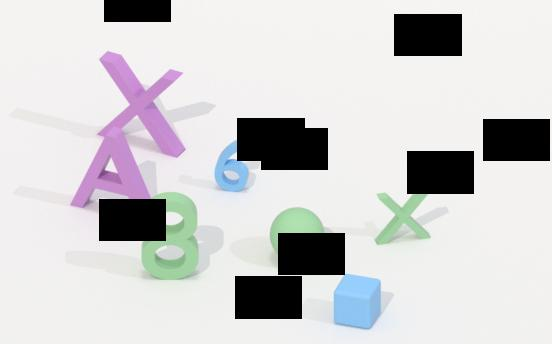6: (213, 136, 252, 195)
8: (138, 190, 203, 284)
A-hoa: (66, 124, 161, 228)
cau: (268, 204, 327, 266)
hop: (329, 271, 383, 332)
x: (93, 44, 191, 162), (375, 186, 432, 247)
